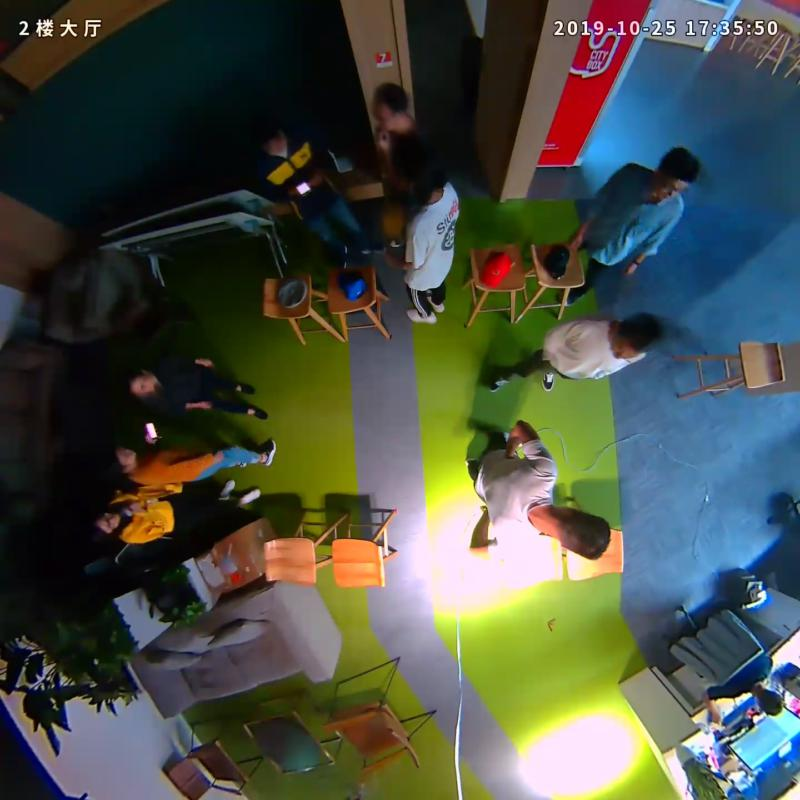head: (538, 501, 619, 563), (644, 144, 702, 204), (606, 309, 667, 365), (77, 436, 145, 484), (100, 359, 170, 402), (399, 154, 455, 207), (72, 508, 134, 547), (244, 114, 294, 160), (366, 83, 412, 124)
